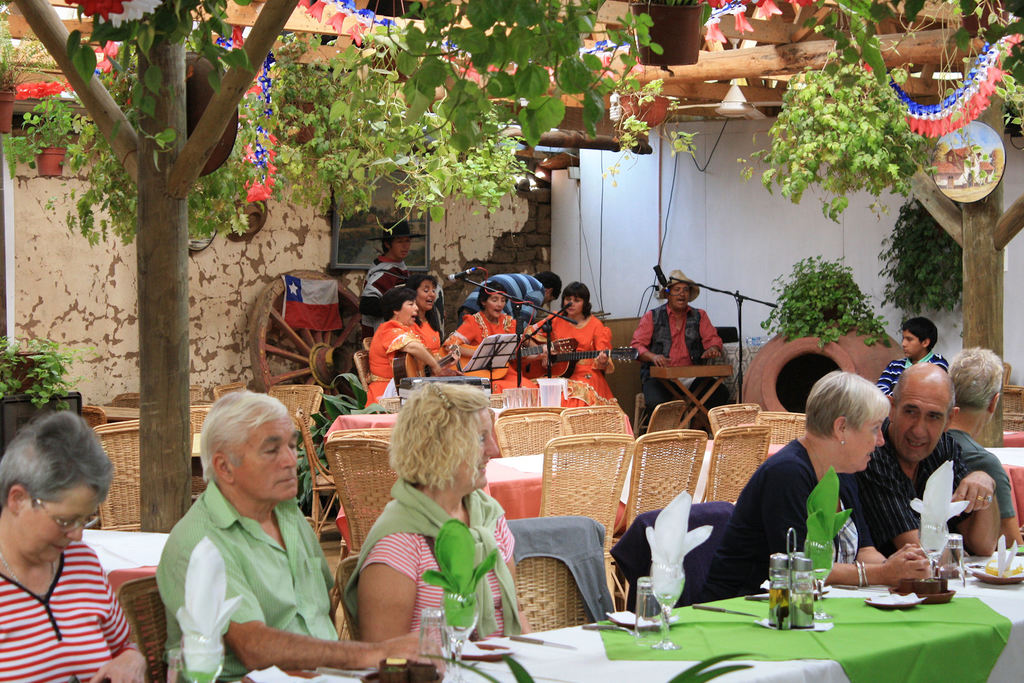Table: (232, 547, 1023, 682), (333, 433, 788, 554), (984, 442, 1023, 537), (73, 399, 154, 426)
